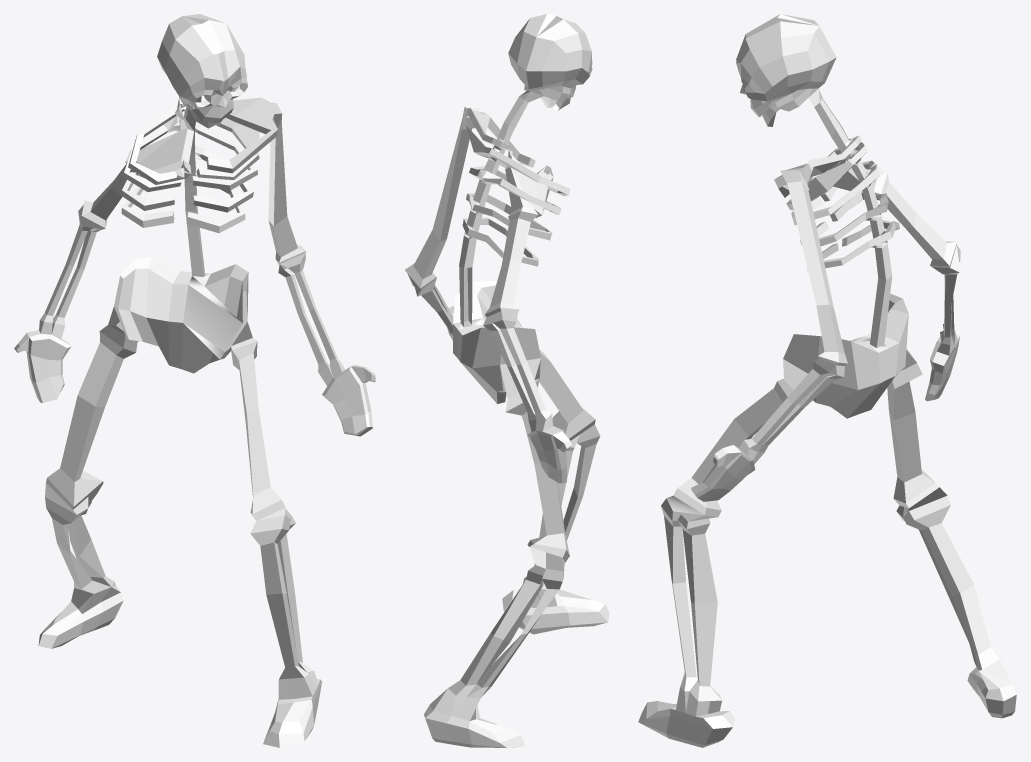
The model's file is SkeletonIdle(111).obj.
3 renders of one model, left to right at view 1: azimuth 30°, elevation 25°; view 2: azimuth 150°, elevation 25°; view 3: azimuth 270°, elevation 25°, orthographic. The views are drawn at different scales.
Visible parts, largest first — view 1: Object002; view 2: Object002; view 3: Object002.
Part boxes in pixels (<box>): Object002: <box>14,14,375,747</box>; Object002: <box>405,14,609,747</box>; Object002: <box>638,14,1016,747</box>.
Size of the model in its own units: 422 by 1123 by 555.
